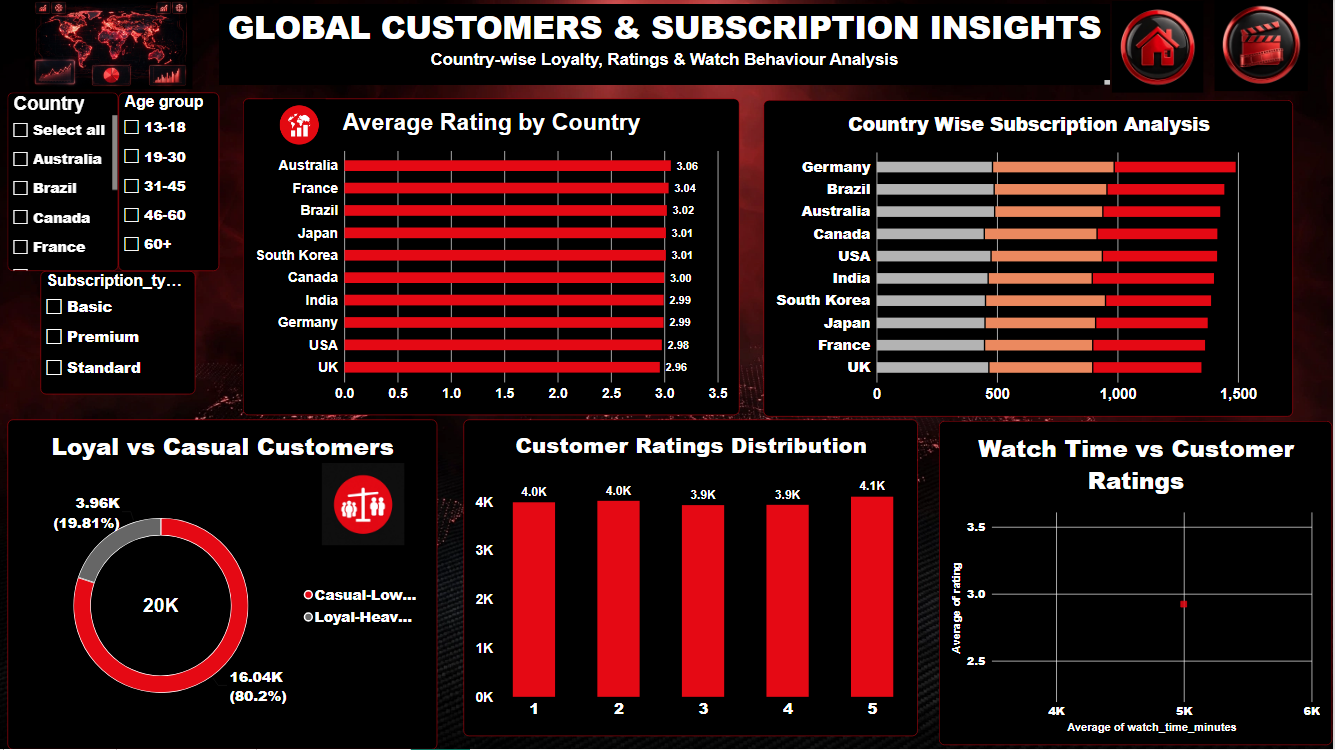

Layout of this report page (visuals, bound fields, positions):
{"tool":"powerbi","page":{"name":"CUSTOMER","canvas":[1920,1080],"ordinal":2},"visuals":[{"type":"donutChart","title":"Loyal vs Casual Customers","fields":{"Category":["netflix_customer_ratings_20000.Customer Type"],"Y":["CountNonNull(netflix_customer_ratings_20000.customer_id)"]},"box":[15.9,606.4,617.8,474.7],"z":0},{"type":"clusteredBarChart","title":"Average Rating by Country","fields":{"Category":["netflix_customer_ratings_20000.country"],"Y":["netflix_customer_ratings_20000.Average Rating"]},"box":[353.8,144.5,714,455.2],"z":4000},{"type":"slicer","fields":{"Values":["netflix_customer_ratings_20000.subscription_type"]},"box":[62.6,392.6,222.6,177.2],"z":5000},{"type":"slicer","fields":{"Values":["netflix_customer_ratings_20000.Age group"]},"box":[174.7,135.9,144.5,256.7],"z":6000},{"type":"slicer","fields":{"Values":["netflix_dataset_20000 csv.country"]},"box":[15.1,135.9,159.6,256.7],"z":7000},{"type":"barChart","title":"Country Wise Subscription Analysis","fields":{"Category":["netflix_dataset_20000 csv.country"],"Series":["netflix_customer_ratings_20000.subscription_type"],"Y":["CountNonNull(netflix_customer_ratings_20000.customer_id)"]},"box":[1102.3,146.7,761.5,455.2],"z":7001},{"type":"scatterChart","title":"Watch Time vs Customer Ratings","fields":{"X":["Avg(netflix_customer_ratings_20000.watch_time_minutes)"],"Y":["Avg(netflix_customer_ratings_20000.rating)"]},"box":[1354.7,608.3,565.2,465.9],"z":7002},{"type":"clusteredColumnChart","title":"Customer Ratings Distribution","fields":{"Category":["netflix_customer_ratings_20000.rating"],"Y":["CountNonNull(netflix_customer_ratings_20000.customer_id)"]},"box":[670.9,606.2,653.6,455.2],"z":7003},{"type":"textbox","title":"GLOBAL CUSTOMERS & SUBSCRIPTION INSIGHTS","box":[319.3,8.6,1281,115.8],"z":7004},{"type":"image","box":[1594.1,4.3,149.9,131.7],"z":7006},{"type":"image","box":[1743,0,149.9,134],"z":7007},{"type":"image","box":[463.8,668.7,125.1,118.6],"z":7008},{"type":"image","box":[384,144.5,101.4,75.5],"z":7009},{"type":"image","box":[15.1,0,297.7,131.6],"z":7010}]}

Visuals, with their boxes in screenshot pixels (x1, y1, x2, y2), scaled from the page's 1920x1080 canvas onto the 1335x750 screenshot:
"Loyal vs Casual Customers" donutChart: {"x1": 11, "y1": 421, "x2": 441, "y2": 749}
"Average Rating by Country" clusteredBarChart: {"x1": 246, "y1": 100, "x2": 742, "y2": 416}
slicer - netflix_customer_ratings_20000.subscription_type: {"x1": 44, "y1": 273, "x2": 198, "y2": 396}
slicer - netflix_customer_ratings_20000.Age group: {"x1": 121, "y1": 94, "x2": 222, "y2": 273}
slicer - netflix_dataset_20000 csv.country: {"x1": 10, "y1": 94, "x2": 121, "y2": 273}
"Country Wise Subscription Analysis" barChart: {"x1": 766, "y1": 102, "x2": 1296, "y2": 418}
"Watch Time vs Customer Ratings" scatterChart: {"x1": 942, "y1": 422, "x2": 1334, "y2": 746}
"Customer Ratings Distribution" clusteredColumnChart: {"x1": 466, "y1": 421, "x2": 921, "y2": 737}
"GLOBAL CUSTOMERS & SUBSCRIPTION INSIGHTS" textbox: {"x1": 222, "y1": 6, "x2": 1113, "y2": 86}
image: {"x1": 1108, "y1": 3, "x2": 1213, "y2": 94}
image: {"x1": 1212, "y1": 0, "x2": 1316, "y2": 93}
image: {"x1": 322, "y1": 464, "x2": 409, "y2": 547}
image: {"x1": 267, "y1": 100, "x2": 338, "y2": 153}
image: {"x1": 10, "y1": 0, "x2": 217, "y2": 91}
